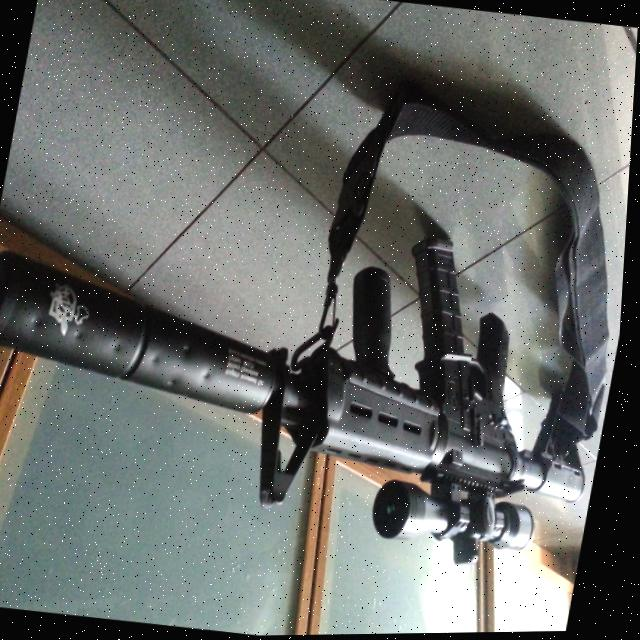firearm: (0, 184, 630, 586)
